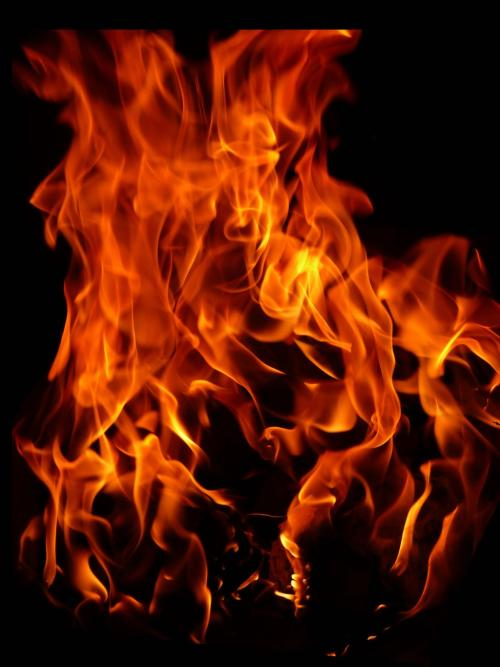fire: (37, 50, 464, 393)
